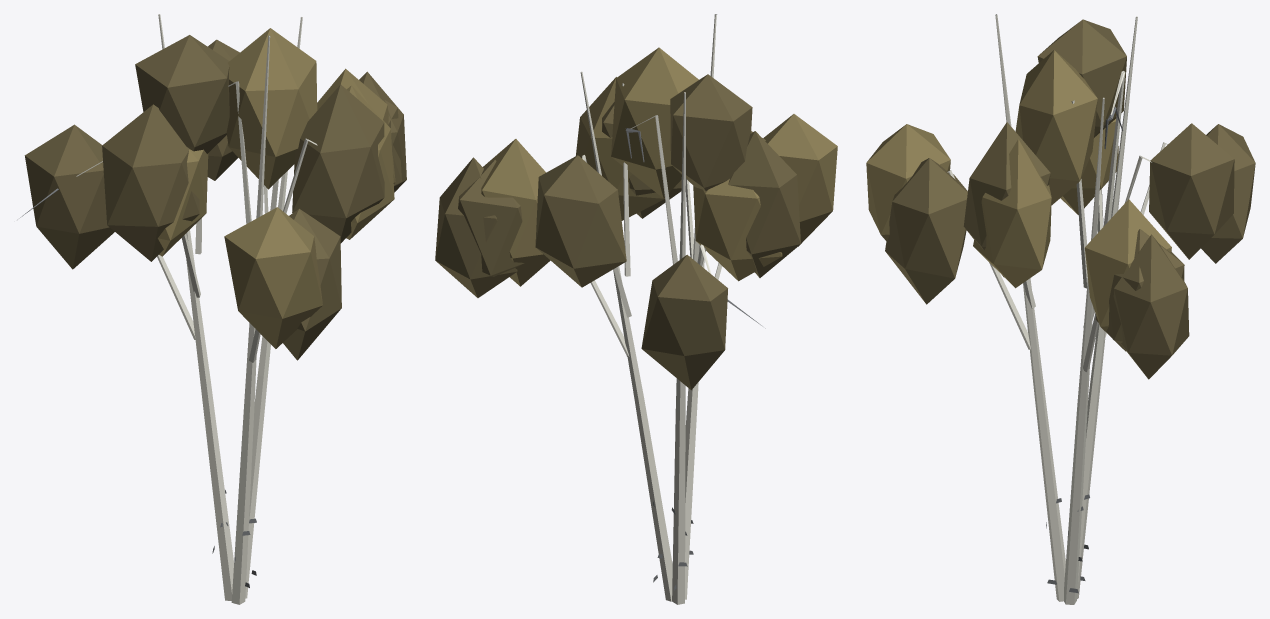
File: birch_winter_02.glb
3 views of the same model, side by side, from view 1: azimuth 30°, elevation 25°; view 2: azimuth 150°, elevation 25°; view 3: azimuth 270°, elevation 25° (orthographic). The views are drawn at different scales.
Parts seen in each view (by area): view 1: Birch_winter_02; view 2: Birch_winter_02; view 3: Birch_winter_02.
Boxes of the visible parts, <box> form: Birch_winter_02: <box>17,14,406,604</box>; Birch_winter_02: <box>435,14,837,604</box>; Birch_winter_02: <box>866,14,1255,604</box>.
Size of the model in its own units: 9.85 by 15.14 by 9.14.
